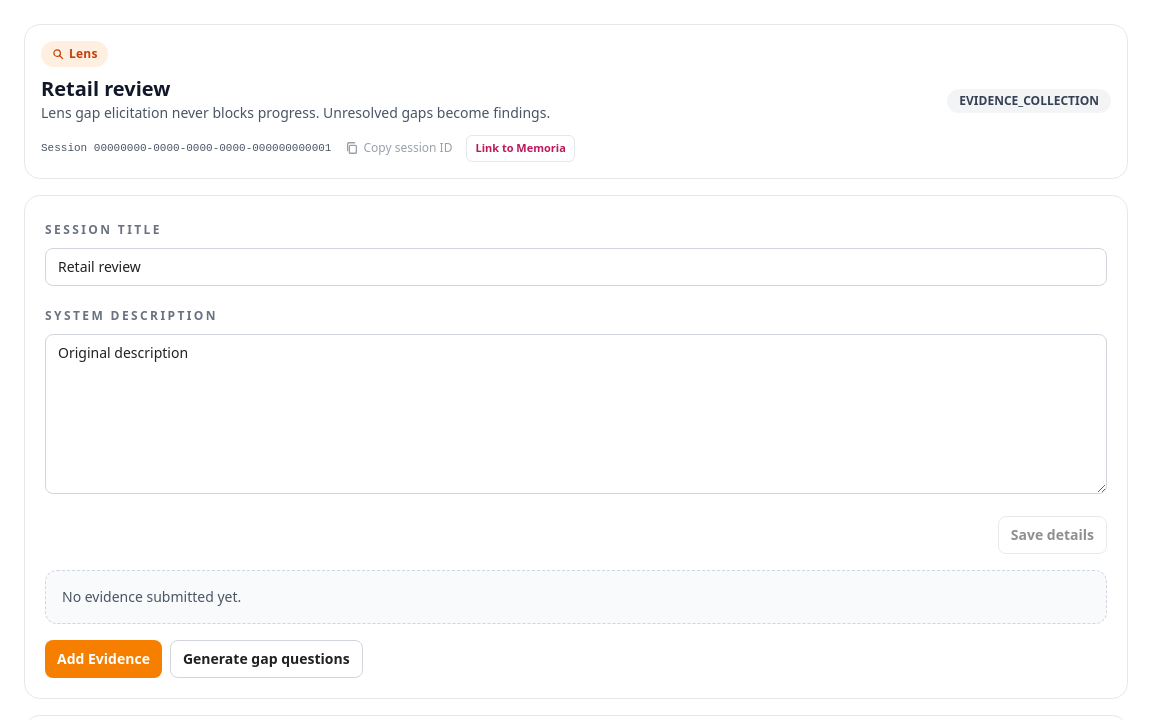
LensReviewPage actions › shows evidence submission failures inside the open dialog
The image size is (1152, 720).
Click the button "Add Evidence". click: coordinates (103, 658)
box: [45, 640, 162, 678]
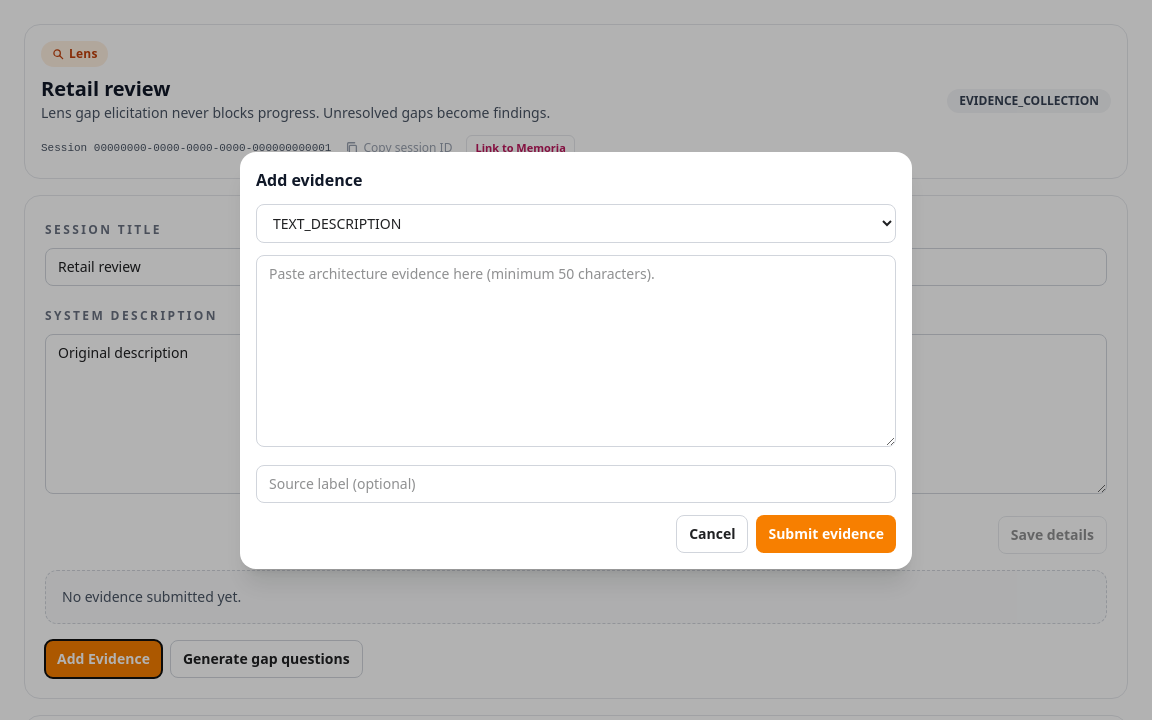
Type "Valid architecture evidence." into the text box with placeholder "Paste architecture evidence here (minimum 50 characters).". click: coordinates (576, 350)
box: [256, 254, 896, 446]
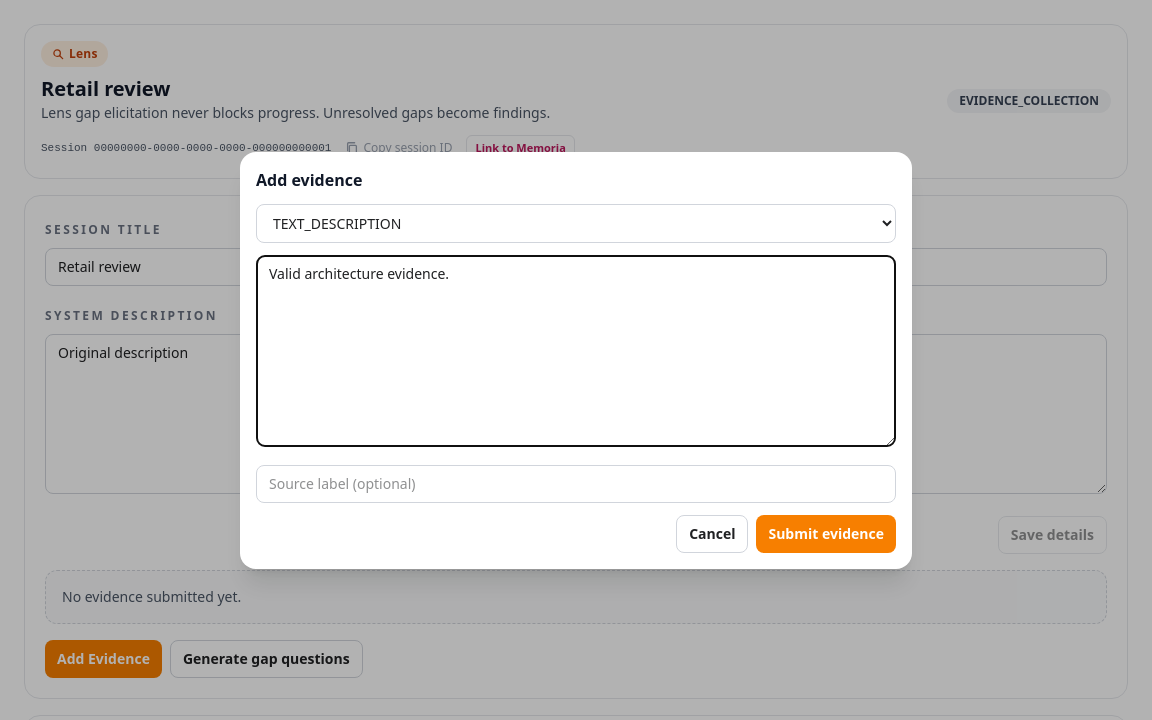
Click the button "Submit evidence". click: coordinates (826, 534)
box: [756, 514, 896, 552]
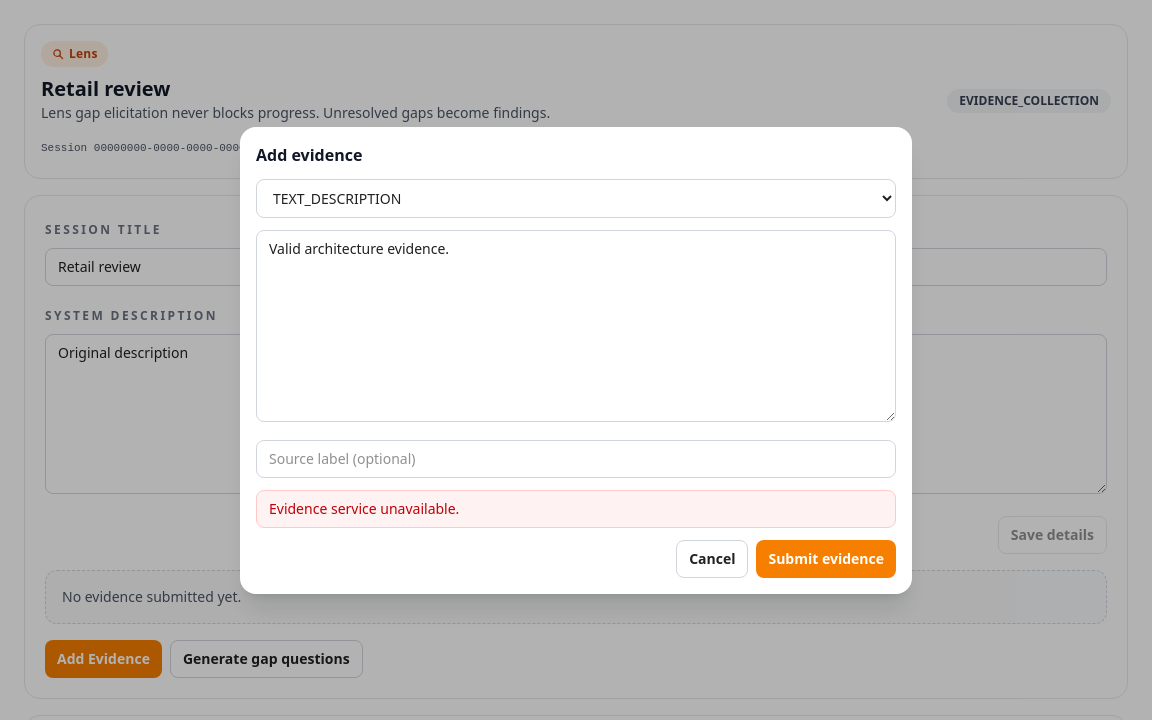
Expected: the heading "Add evidence" is shown, [256, 144, 362, 166]
Expected: the message reads "Evidence service unavailable.", [269, 498, 459, 518]
